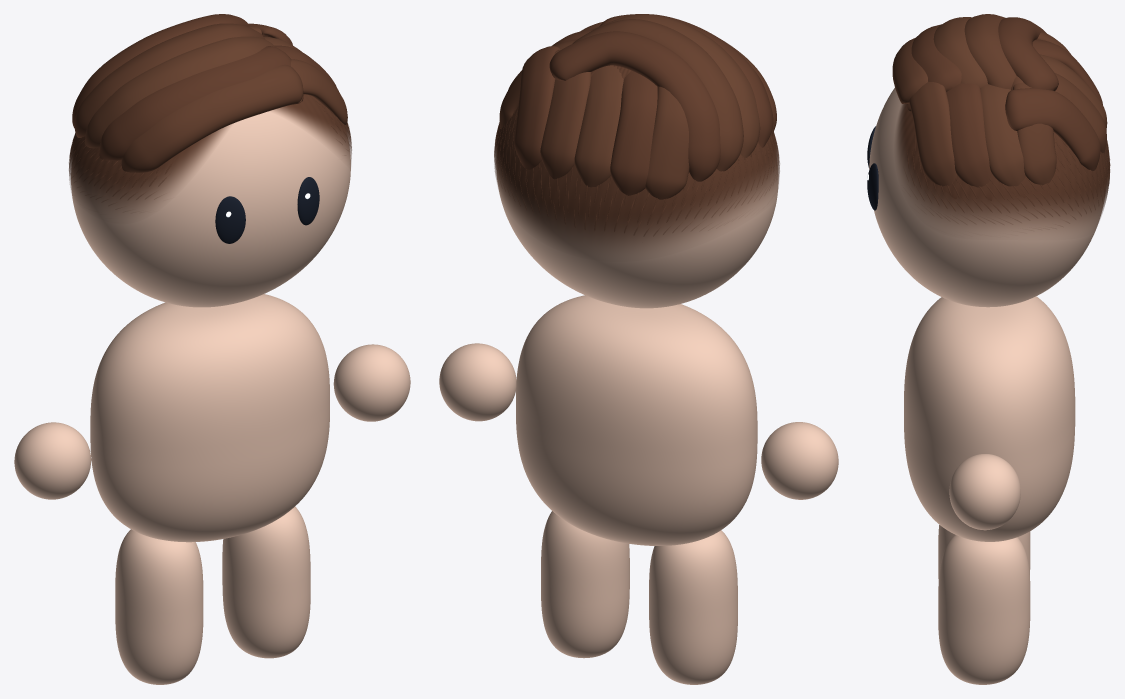
The model's file is Taper-skin0.glb.
3 views of the same model, side by side, from view 1: azimuth 30°, elevation 25°; view 2: azimuth 150°, elevation 25°; view 3: azimuth 270°, elevation 25° (orthographic). The views are drawn at different scales.
Parts seen in each view (by area): view 1: Skin / compact torso, Skin / soft oval head, Skin / leg -1, Skin / leg 1, Hair / Taper short sides, Hair / Taper top 0, Hair / Taper top 1, Skin / hand -1, Skin / hand 1, Hair / Taper top 2, Hair / Taper top 3, Hair / Taper top 4 (+4 smaller); view 2: Skin / compact torso, Skin / soft oval head, Hair / Taper short sides, Skin / leg -1, Skin / leg 1, Hair / Taper top 4, Skin / hand 1, Skin / hand -1, Hair / Taper top 3, Hair / Taper crown 1, Hair / Taper crown 2, Hair / Taper crown 0 (+6 smaller); view 3: Skin / compact torso, Skin / soft oval head, Hair / Taper short sides, Skin / leg 1, Skin / hand 1, Hair / Taper crown 4, Hair / Taper short sweep 0, Hair / Taper short sweep 1, Hair / Taper short sweep 2, Hair / Taper top 4, Hair / Taper top 3, Hair / Taper short sweep 3 (+9 smaller).
Boxes of the visible parts, bbox=[...] form: Skin / compact torso: bbox=[90, 294, 329, 542]; Skin / soft oval head: bbox=[71, 107, 350, 307]; Skin / leg -1: bbox=[115, 529, 203, 684]; Skin / leg 1: bbox=[222, 506, 310, 658]; Hair / Taper short sides: bbox=[69, 94, 351, 216]; Hair / Taper top 0: bbox=[121, 64, 303, 172]; Hair / Taper top 1: bbox=[99, 46, 291, 160]; Skin / hand -1: bbox=[14, 422, 91, 499]; Skin / hand 1: bbox=[333, 344, 410, 421]; Hair / Taper top 2: bbox=[84, 36, 274, 148]; Hair / Taper top 3: bbox=[74, 23, 265, 137]; Hair / Taper top 4: bbox=[72, 14, 249, 127]; Skin / compact torso: bbox=[516, 295, 757, 545]; Skin / soft oval head: bbox=[496, 161, 778, 308]; Hair / Taper short sides: bbox=[494, 65, 779, 254]; Skin / leg -1: bbox=[649, 530, 737, 684]; Skin / leg 1: bbox=[541, 511, 629, 658]; Hair / Taper top 4: bbox=[549, 31, 720, 181]; Skin / hand 1: bbox=[439, 343, 516, 421]; Skin / hand -1: bbox=[761, 422, 838, 499]; Hair / Taper top 3: bbox=[572, 19, 743, 171]; Hair / Taper crown 1: bbox=[610, 71, 657, 195]; Hair / Taper crown 2: bbox=[574, 65, 623, 187]; Hair / Taper crown 0: bbox=[645, 86, 689, 199]; Skin / compact torso: bbox=[904, 296, 1075, 541]; Skin / soft oval head: bbox=[869, 88, 1104, 307]; Hair / Taper short sides: bbox=[896, 104, 1109, 232]; Skin / leg 1: bbox=[938, 535, 1030, 684]; Skin / hand 1: bbox=[949, 454, 1020, 530]; Hair / Taper crown 4: bbox=[1005, 88, 1100, 170]; Hair / Taper short sweep 0: bbox=[909, 82, 957, 186]; Hair / Taper short sweep 1: bbox=[946, 83, 991, 187]; Hair / Taper short sweep 2: bbox=[980, 84, 1025, 186]; Hair / Taper top 4: bbox=[998, 17, 1058, 90]; Hair / Taper top 3: bbox=[964, 14, 1016, 89]; Hair / Taper short sweep 3: bbox=[1013, 82, 1056, 185].
Bounding box in the file's own units: 1.49 × 2.34 × 0.8289.
